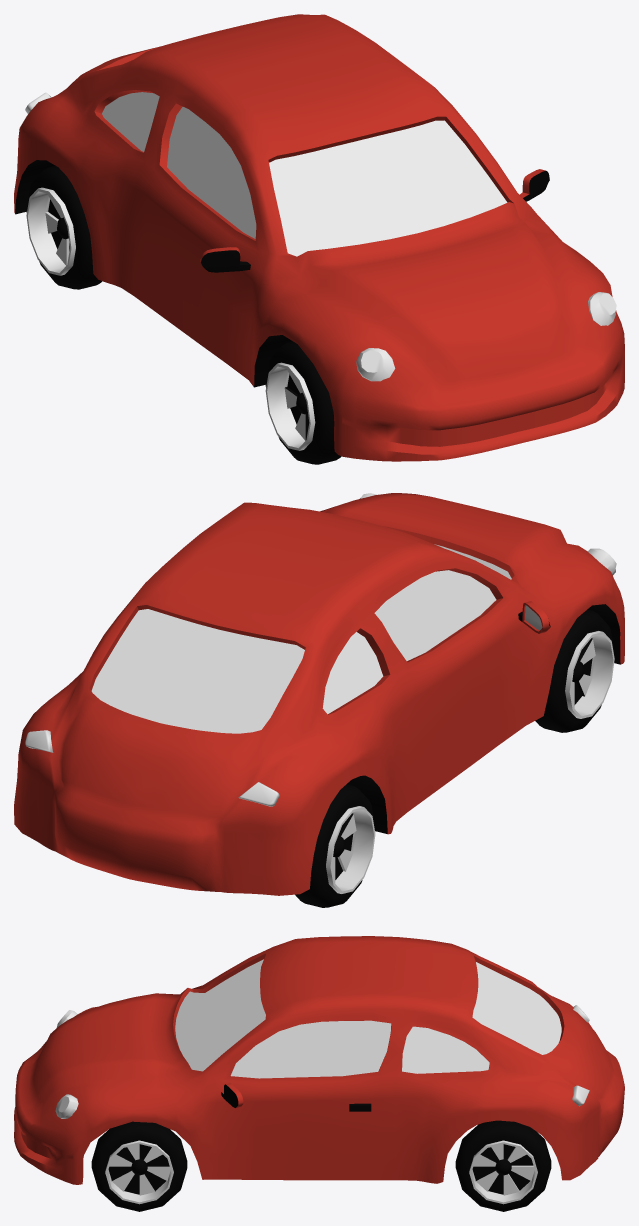
File: volkswagenbeetle.fbx
3 views of the same model, one above another, from view 1: azimuth 30°, elevation 25°; view 2: azimuth 150°, elevation 25°; view 3: azimuth 270°, elevation 25° (orthographic). The views are drawn at different scales.
Visible parts, largest first — view 1: beetle, beetle teker, beetle ön far; view 2: beetle, beetle teker, beetle arka far; view 3: beetle, beetle teker, beetle ön far.
Part boxes in pixels (x1,y1,x2,y2): beetle: (14,14,624,461); beetle teker: (26,166,341,464); beetle ön far: (356,292,616,381); beetle: (14,493,624,895); beetle teker: (295,609,614,907); beetle arka far: (25,730,279,806); beetle: (14,936,624,1184); beetle teker: (91,1120,551,1211); beetle ön far: (55,1010,78,1118).
Size of the model in its own units: 145 by 101 by 289.
